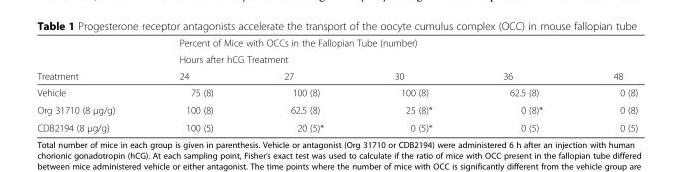table: (36, 36, 637, 133)
table column: (36, 36, 146, 133), (248, 36, 358, 133), (467, 36, 577, 133), (358, 36, 467, 133), (146, 36, 248, 133), (577, 36, 637, 133)
table column header: (36, 36, 637, 83)
table row: (36, 100, 637, 118), (36, 50, 637, 67), (36, 83, 637, 100), (36, 67, 637, 83), (36, 118, 637, 133), (36, 36, 637, 50)
table spanning cell: (146, 36, 637, 67), (36, 36, 146, 83)
